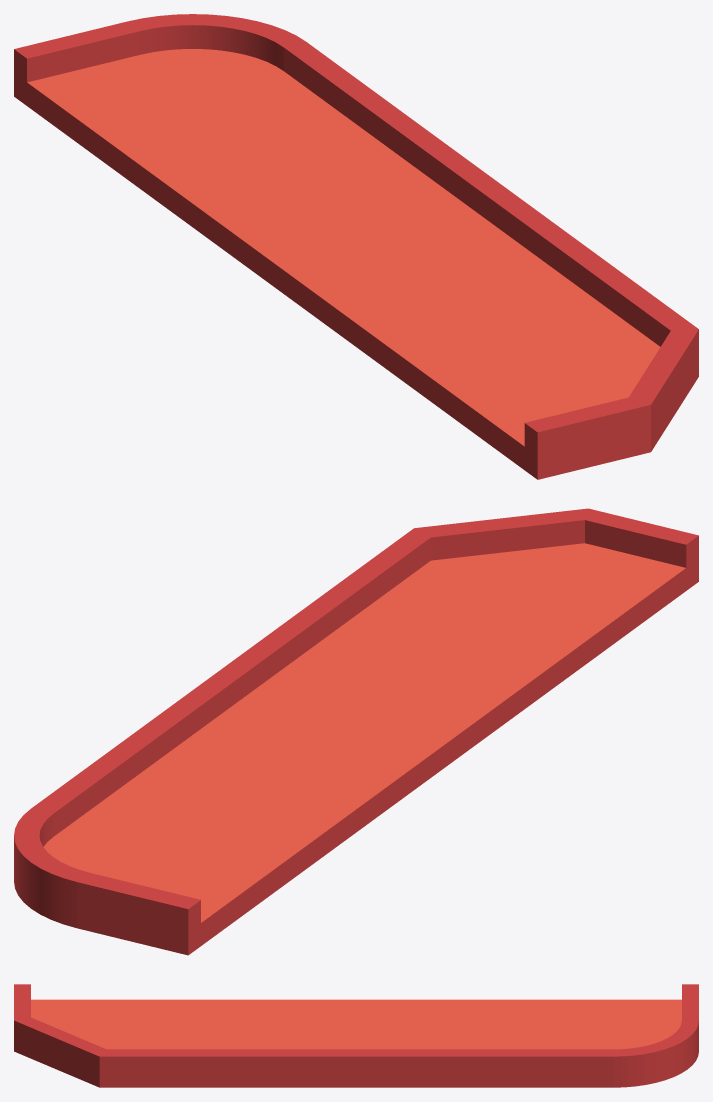
File: part 1 rotated.fbx
3 renders of one model, top to bottom at view 1: azimuth 30°, elevation 25°; view 2: azimuth 150°, elevation 25°; view 3: azimuth 270°, elevation 25°, orthographic. The views are drawn at different scales.
Visible parts, largest first — view 1: roof_flatEdge (×2), roof_flatCornerRoundOpen, roof_flatCornerOpen; view 2: roof_flatEdge (×2), roof_flatCornerRoundOpen, roof_flatCornerOpen; view 3: roof_flatEdge (×2), roof_flatCornerRoundOpen, roof_flatCornerOpen.
Part boxes in pixels (bbox=[...]): roof_flatEdge (×2): bbox=[145, 89, 632, 383]; roof_flatCornerRoundOpen: bbox=[14, 14, 370, 191]; roof_flatCornerOpen: bbox=[406, 281, 698, 479]; roof_flatEdge (×2): bbox=[95, 575, 571, 861]; roof_flatCornerRoundOpen: bbox=[14, 762, 315, 955]; roof_flatCornerOpen: bbox=[350, 508, 698, 674]; roof_flatEdge (×2): bbox=[185, 999, 527, 1087]; roof_flatCornerRoundOpen: bbox=[527, 984, 698, 1087]; roof_flatCornerOpen: bbox=[14, 984, 185, 1087].
Bounding box in the file's own units: 10 × 2 × 40.
